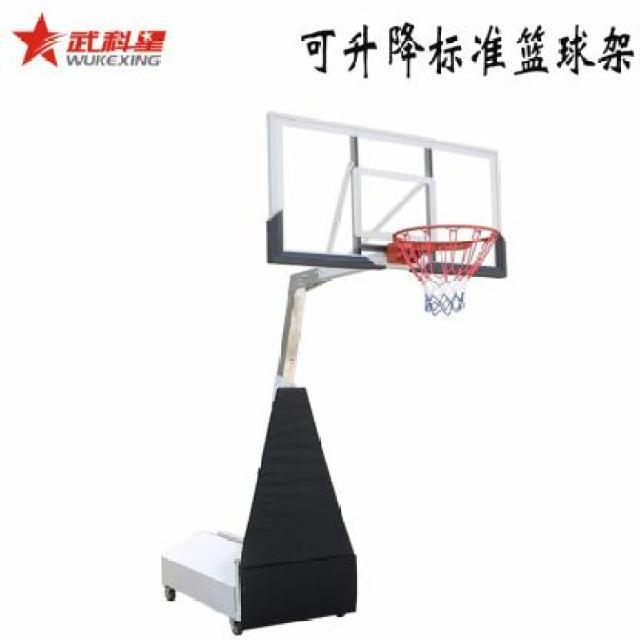rim: (394, 224, 500, 318)
